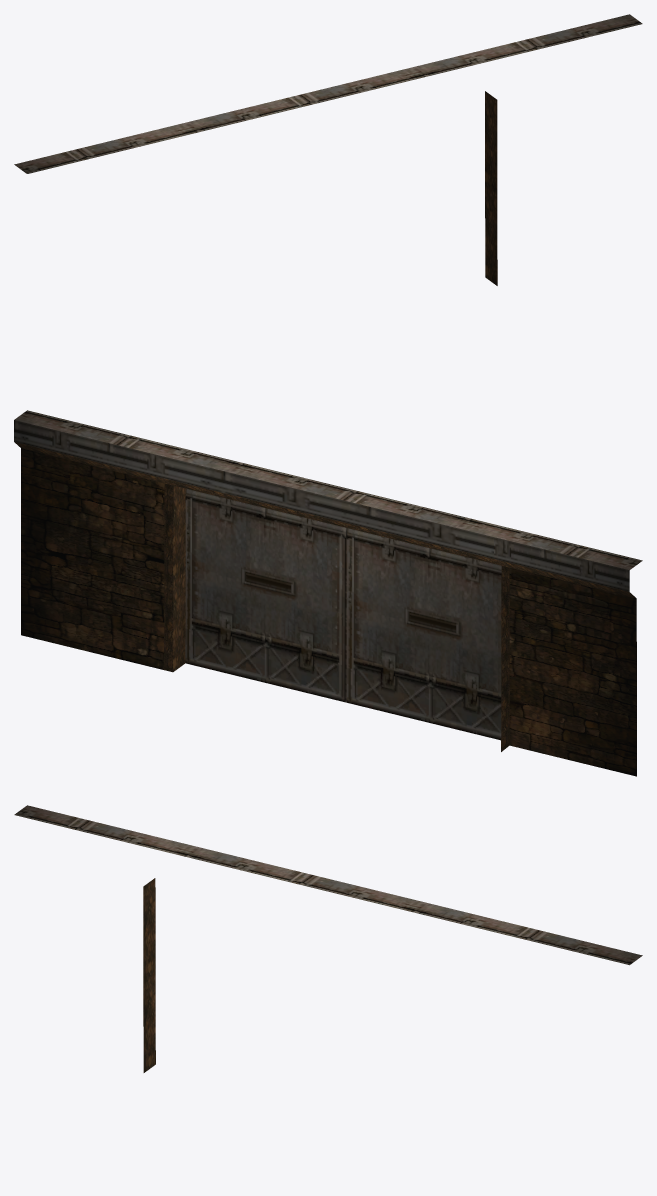
Rendered from M10_Z1_TunnelGate02.glb.
3 views of the same model, one above another, from view 1: azimuth 30°, elevation 25°; view 2: azimuth 150°, elevation 25°; view 3: azimuth 330°, elevation 25° (orthographic).
Visible parts, largest first — view 1: M10_Z1_TUNNELGATE02; view 2: M10_Z1_TUNNELGATE02; view 3: M10_Z1_TUNNELGATE02.
Part boxes in pixels (bbox=[...]): M10_Z1_TUNNELGATE02: bbox=[14, 14, 642, 285]; M10_Z1_TUNNELGATE02: bbox=[14, 410, 642, 776]; M10_Z1_TUNNELGATE02: bbox=[14, 805, 642, 1072].
Size of the model in its own units: 14.5 by 4.96 by 0.8.
Materials: 3 (3 with a texture image).
